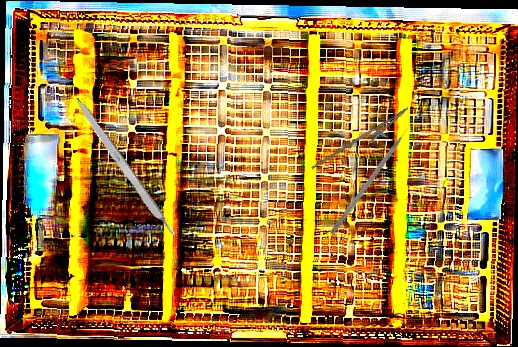Hook Surgical: (328, 116, 419, 237)
Needle Holder: (310, 96, 415, 187)
Scalpel Handle: (71, 95, 177, 240)
